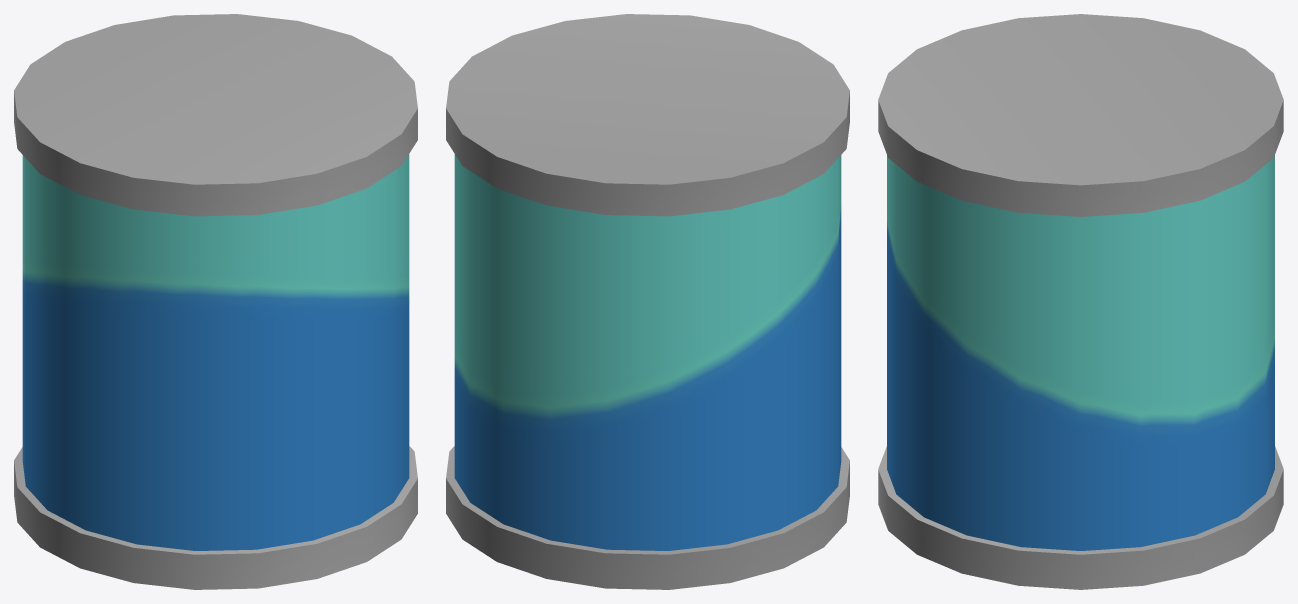
The model's file is Ürün81.fbx.
3 views of the same model, side by side, from view 1: azimuth 30°, elevation 25°; view 2: azimuth 150°, elevation 25°; view 3: azimuth 270°, elevation 25° (orthographic).
Parts seen in each view (by area): view 1: pCylinder52; view 2: pCylinder52; view 3: pCylinder52.
Boxes of the visible parts, x1=… form: pCylinder52: x1=14, y1=14, x2=417, y2=589; pCylinder52: x1=446, y1=14, x2=849, y2=589; pCylinder52: x1=878, y1=14, x2=1283, y2=589.
Bounding box in the file's own units: 9.51 × 10.47 × 9.51.
